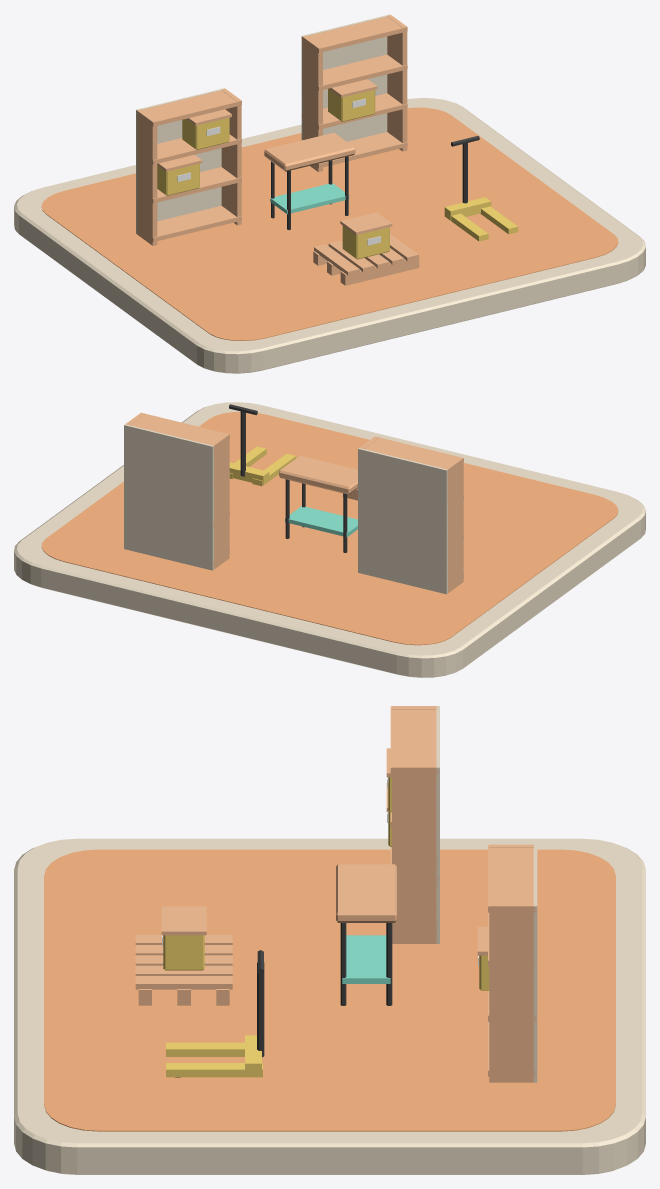
The picture shows the model from 3 angles, top to bottom: view 1: azimuth 30°, elevation 25°; view 2: azimuth 150°, elevation 25°; view 3: azimuth 270°, elevation 25°; orthographic projection. The views are drawn at different scales.
Visible parts, largest first — view 1: COM-02 Floor Surface, COM-01 Rounded Base Direct, Back.001, Back, Side, Worktop, Side.003, Side.002, Shelf.007, Shelf.003, Side.001, Shelf.006 (+14 smaller); view 2: COM-02 Floor Surface, COM-01 Rounded Base Direct, Back, Back.001, Worktop, Side, Side.002, Shelf.007, Shelf.003, Lower shelf, Fork chassis, Fork; view 3: COM-02 Floor Surface, COM-01 Rounded Base Direct, Side.003, Side.001, Worktop, Shelf.003, Shelf.007, Lower shelf, Box.003, Lid.003, Deck board.004, Fork.001 (+5 smaller).
Part boxes in pixels (bbox=[...]): COM-02 Floor Surface: bbox=[41, 107, 618, 340]; COM-01 Rounded Base Direct: bbox=[14, 98, 645, 373]; Back.001: bbox=[301, 14, 390, 141]; Back: bbox=[136, 88, 224, 234]; Side: bbox=[137, 109, 157, 245]; Worktop: bbox=[264, 132, 355, 171]; Side.003: bbox=[387, 15, 407, 151]; Side.002: bbox=[302, 35, 322, 171]; Shelf.007: bbox=[301, 16, 407, 52]; Shelf.003: bbox=[137, 90, 241, 126]; Side.001: bbox=[221, 88, 241, 225]; Shelf.006: bbox=[301, 54, 407, 90]; COM-02 Floor Surface: bbox=[41, 412, 618, 645]; COM-01 Rounded Base Direct: bbox=[14, 402, 645, 677]; Back: bbox=[358, 448, 447, 594]; Back.001: bbox=[124, 424, 213, 570]; Worktop: bbox=[279, 455, 357, 494]; Side: bbox=[444, 457, 463, 592]; Side.002: bbox=[210, 433, 229, 569]; Shelf.007: bbox=[130, 412, 229, 450]; Shelf.003: bbox=[364, 436, 463, 473]; Lower shelf: bbox=[285, 506, 357, 537]; Fork chassis: bbox=[229, 462, 269, 485]; Fork: bbox=[252, 453, 296, 486]; COM-02 Floor Surface: bbox=[44, 849, 615, 1131]; COM-01 Rounded Base Direct: bbox=[14, 838, 645, 1174]; Side.003: bbox=[489, 903, 533, 1082]; Side.001: bbox=[392, 764, 438, 943]; Worktop: bbox=[336, 864, 396, 922]; Shelf.003: bbox=[390, 706, 438, 773]; Shelf.007: bbox=[488, 845, 536, 912]; Lower shelf: bbox=[342, 935, 390, 983]; Box.003: bbox=[163, 935, 204, 970]; Lid.003: bbox=[161, 906, 206, 935]; Deck board.004: bbox=[135, 976, 232, 989]; Fork.001: bbox=[166, 1063, 262, 1077].
Bounding box in the file's own units: 6 × 1.9 × 5.2.
1 material, 1 textured.
